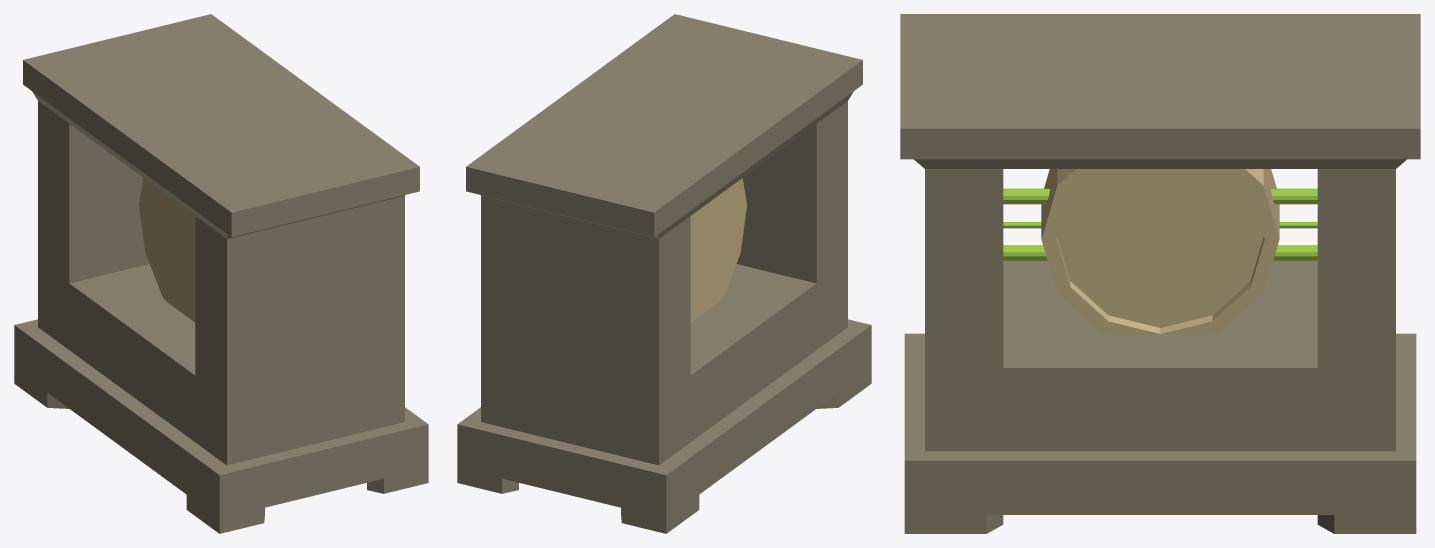
File: stubClock.fbx
The picture shows the model from 3 angles, left to right: view 1: azimuth 30°, elevation 25°; view 2: azimuth 150°, elevation 25°; view 3: azimuth 270°, elevation 25°; orthographic projection. The views are drawn at different scales.
Visible parts, largest first — view 1: clock shell, clock face; view 2: clock shell, clock face; view 3: clock shell, clock face, pole 1, pole 3.
Boxes of the visible parts, x1,y1,x2,y2 form: clock shell: (14,14,428,533); clock face: (139,178,195,322); clock shell: (457,14,871,533); clock face: (690,178,746,322); clock shell: (900,14,1420,533); clock face: (1041,169,1279,334); pole 1: (1003,188,1317,204); pole 3: (1003,245,1317,260).
Size of the model in its own units: 128 by 187 by 221.
